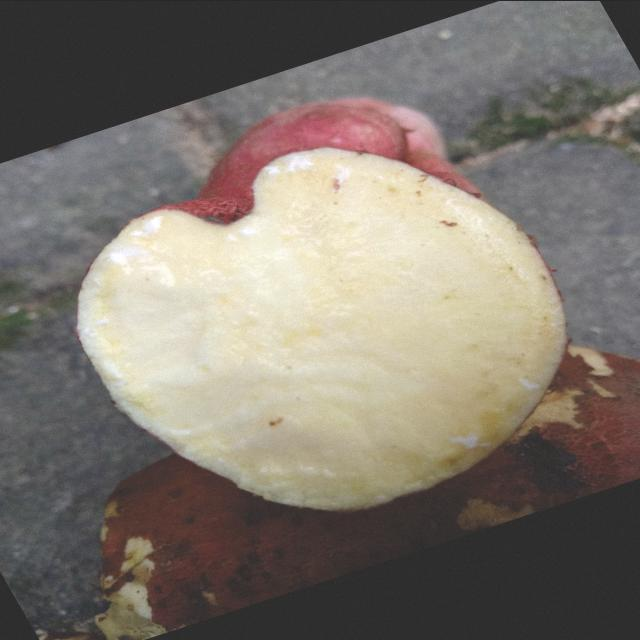Healthy Sweet Potato: (78, 148, 567, 509)
